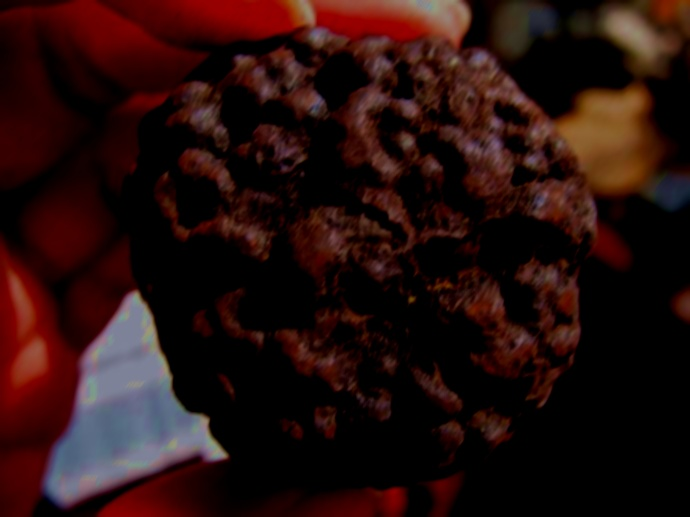halobolite: (124, 32, 602, 489)
